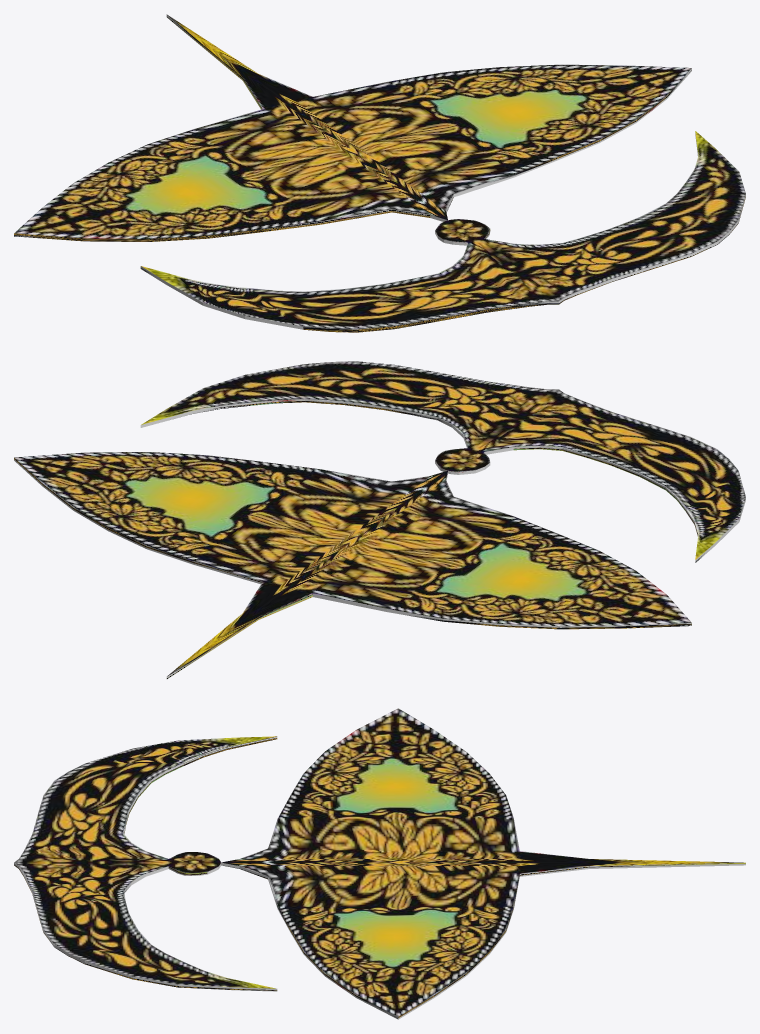
File: wau bulan #2.fbx
The picture shows the model from 3 angles, top to bottom: view 1: azimuth 30°, elevation 25°; view 2: azimuth 150°, elevation 25°; view 3: azimuth 270°, elevation 25°; orthographic projection. The views are drawn at different scales.
Parts seen in each view (by area): view 1: Cube.002; view 2: Cube.002; view 3: Cube.002.
Boxes of the visible parts, box(x1,y1,x2,y2) form: Cube.002: box(14, 14, 745, 332); Cube.002: box(14, 361, 745, 679); Cube.002: box(14, 708, 745, 1019).
Bounding box in the file's own units: 4.6 × 4.58 × 0.02.
